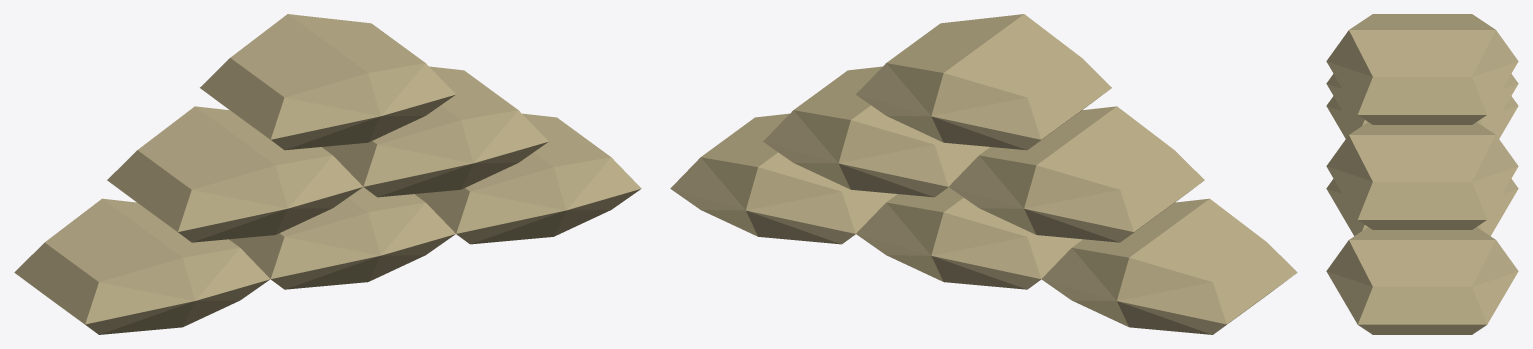
File: WallLvl2.fbx
3 renders of one model, left to right at view 1: azimuth 30°, elevation 25°; view 2: azimuth 150°, elevation 25°; view 3: azimuth 270°, elevation 25°, orthographic. The views are drawn at different scales.
Visible parts, largest first — view 1: Cube.003; view 2: Cube.003; view 3: Cube.003.
Part boxes in pixels (x1,y1,x2,y2): Cube.003: (14,14,641,334); Cube.003: (670,14,1297,334); Cube.003: (1326,14,1518,334).
Bounding box in the file's own units: 309 × 111 × 101.
